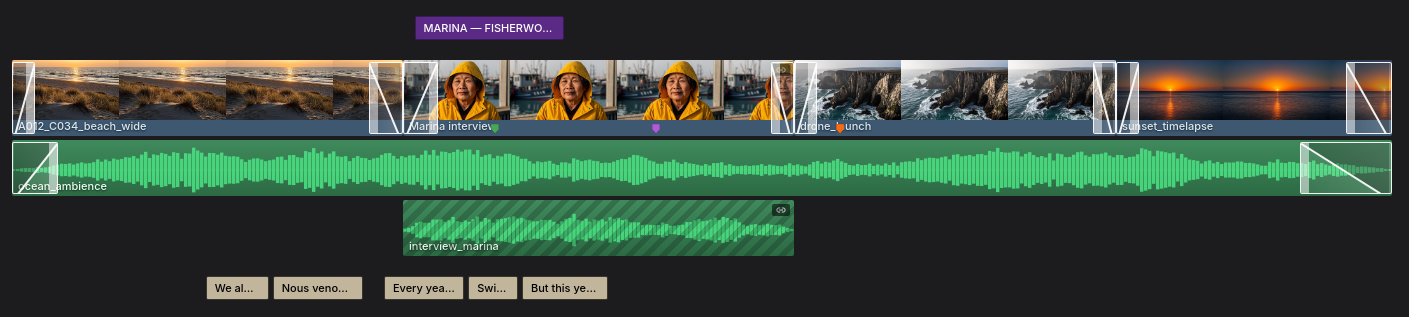
Test case: Clip › R15 T4 handles: selected-only + select/roll/ripple/stretch tools; slip/slide/blade render none (canonical §17)
Click the button with test id "clip-el-2" at (598, 98), box [403,60,794,136]
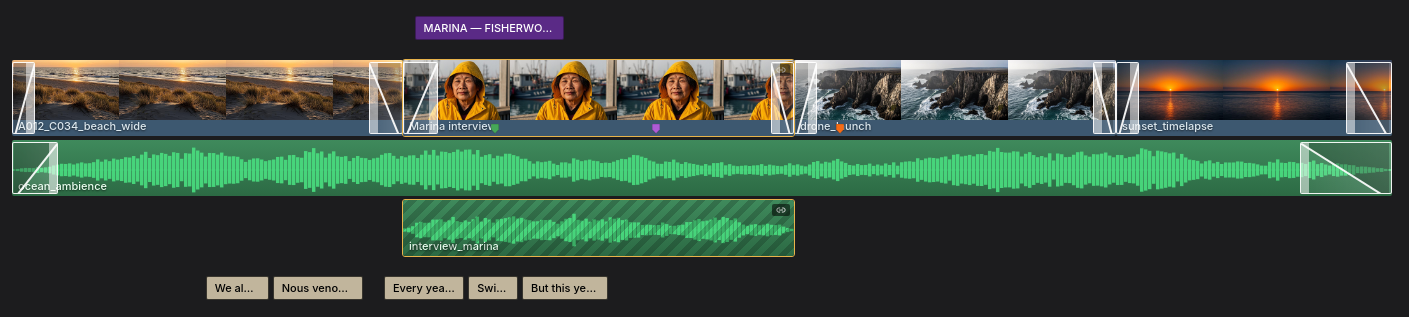
Result: the element with test id "clip-trim-l-el-2" is shown at [399,60,407,136]
